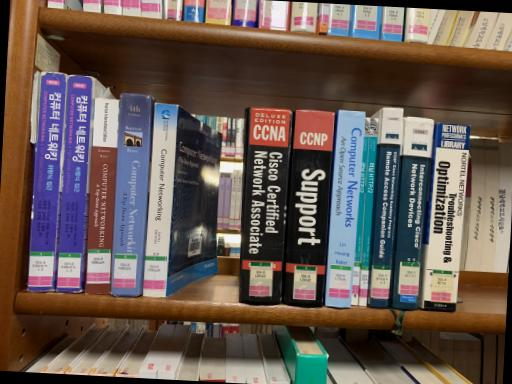book-spine: (239, 108, 293, 306), (281, 110, 335, 308), (422, 122, 470, 312), (26, 72, 65, 292), (110, 93, 150, 298), (55, 75, 92, 292), (393, 117, 434, 312), (325, 110, 364, 308), (142, 103, 178, 297), (370, 108, 403, 309), (85, 98, 118, 293), (358, 117, 379, 307), (351, 118, 370, 306)
